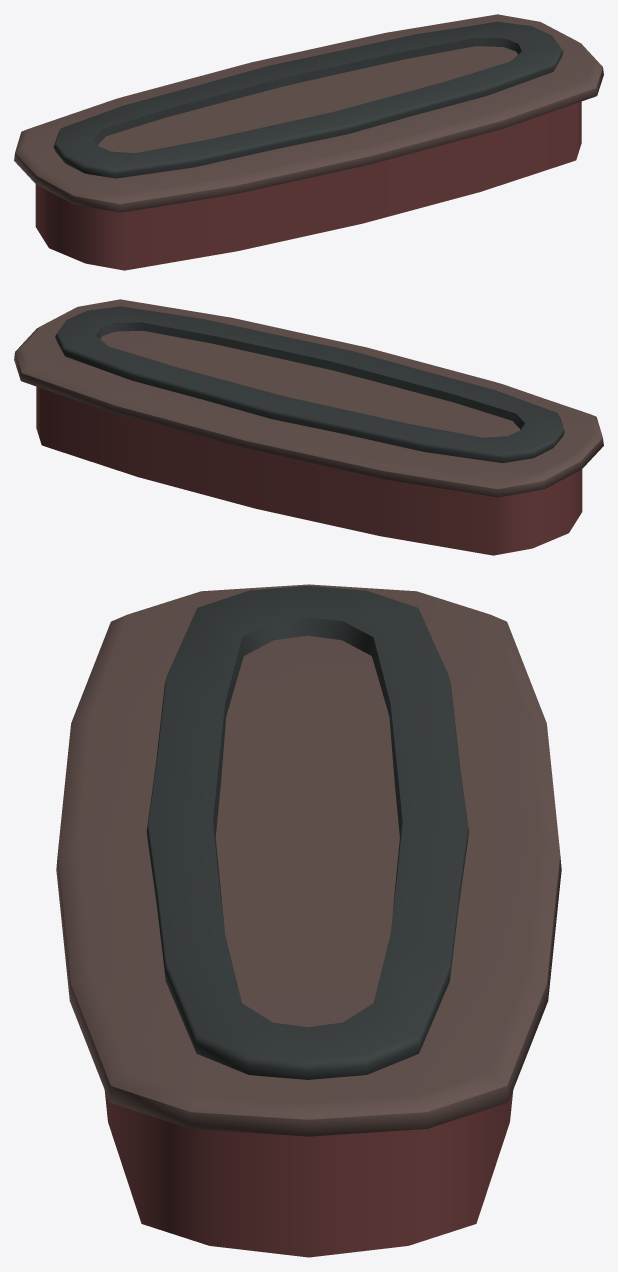
The model's file is Sushi_Train.fbx.
The picture shows the model from 3 angles, top to bottom: view 1: azimuth 30°, elevation 25°; view 2: azimuth 150°, elevation 25°; view 3: azimuth 270°, elevation 25°; orthographic projection. The views are drawn at different scales.
Parts seen in each view (by area): view 1: SushiTable, conveyor; view 2: SushiTable, conveyor; view 3: SushiTable, conveyor.
Boxes of the visible parts, x1,y1,x2,y2 form: SushiTable: (14, 14, 603, 270); conveyor: (53, 21, 563, 178); SushiTable: (14, 299, 603, 555); conveyor: (55, 306, 564, 462); SushiTable: (56, 584, 561, 1257); conveyor: (146, 586, 468, 1079).
Bounding box in the file's own units: 61.99 × 9.8 × 24.84.
